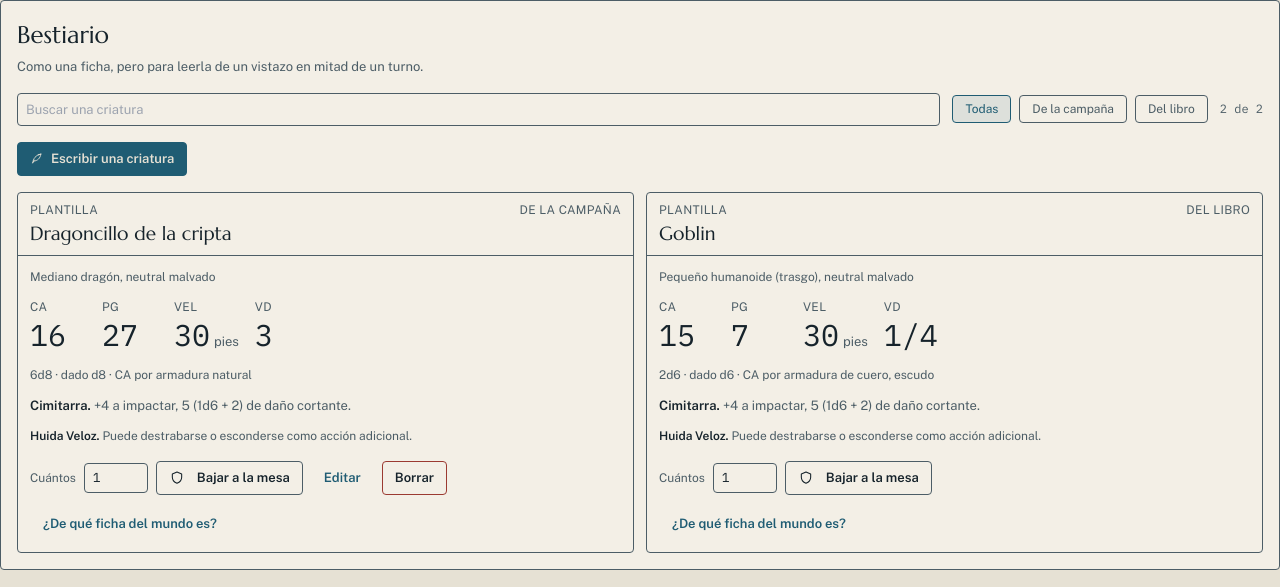
PanelDeBestiario — buscar y filtrar › busca por nombre, y si no hay nada lo dice sin dejar la pantalla en blanco
The width and height of the screenshot is (1280, 587).
expect the heading "Goblin" is shown: met, box [659,220,716,244]
In the field labelled "Buscar una criatura": (479,109) [17,92,940,126], type "basilisco"
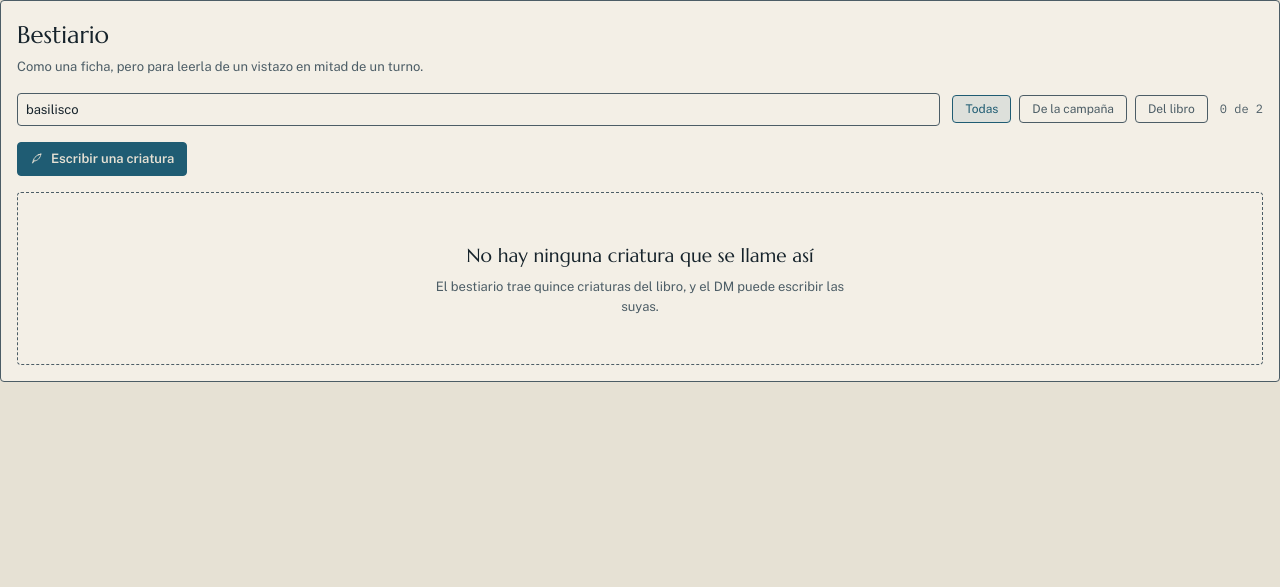
expect the text "No hay ninguna criatura que se llame así" is shown: met, box [466,242,814,266]
